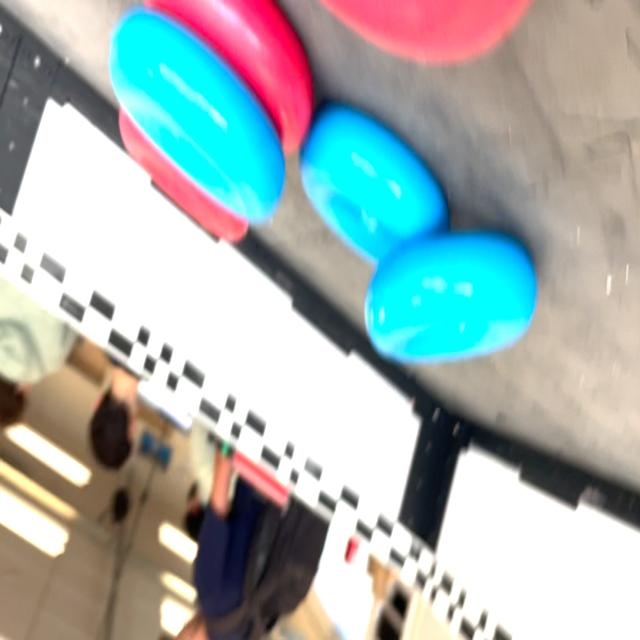Blue-Ring: (109, 7, 285, 222), (300, 102, 449, 262), (365, 231, 536, 362)
Red-Ring: (144, 0, 314, 153), (119, 107, 249, 242), (317, 0, 535, 67)
